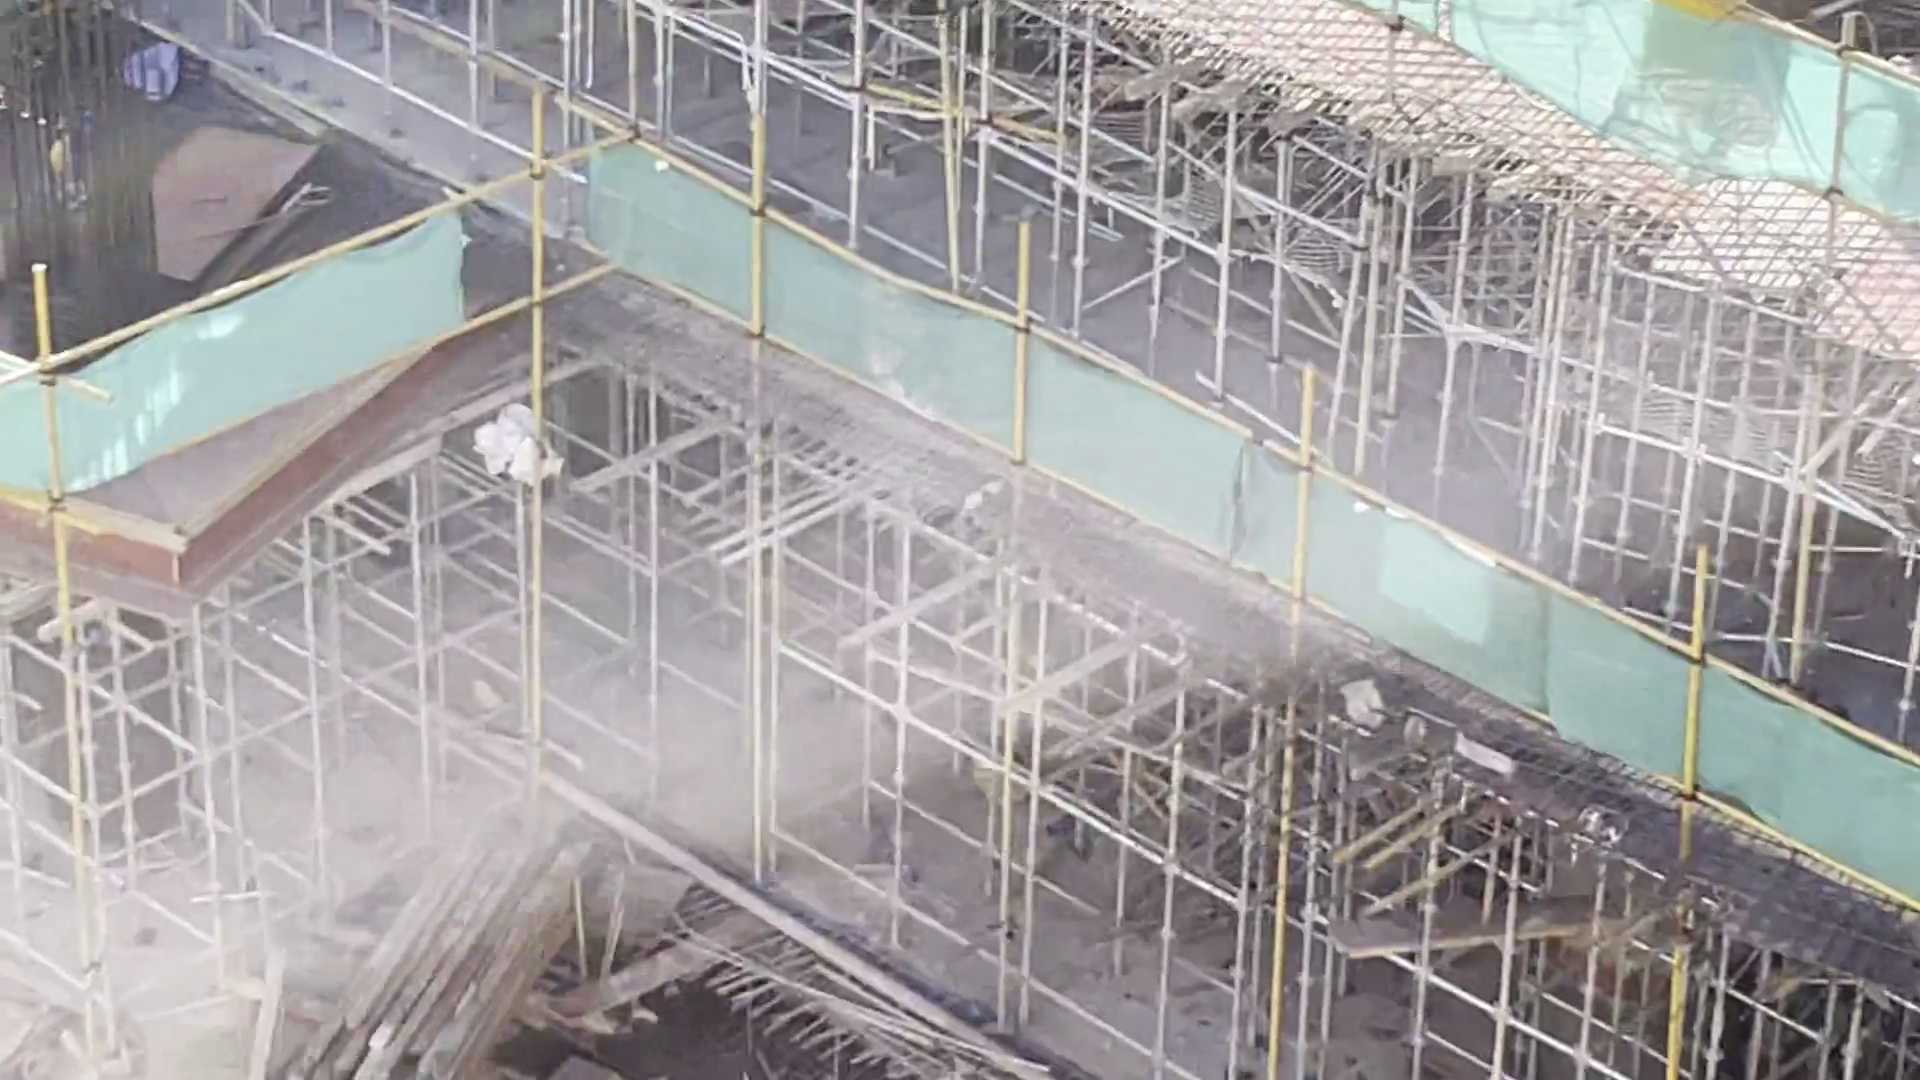wood: (274, 781, 567, 1073)
